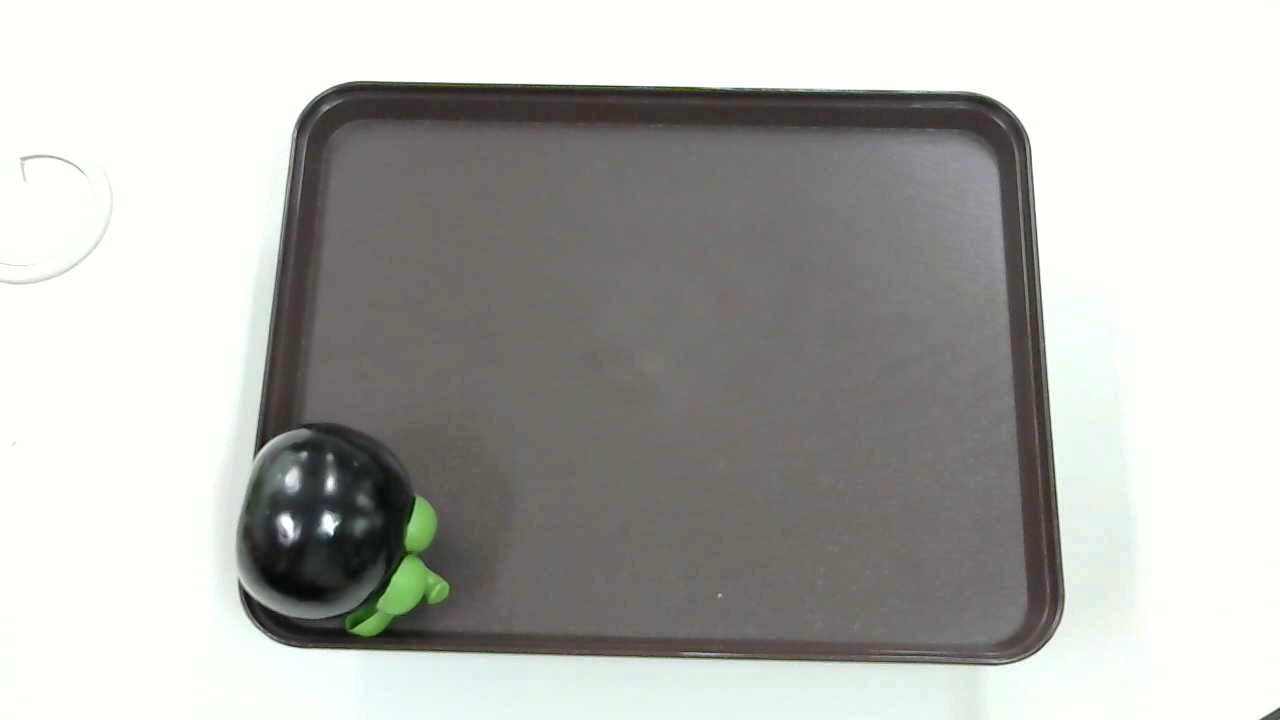mangosteen: (227, 419, 452, 644)
